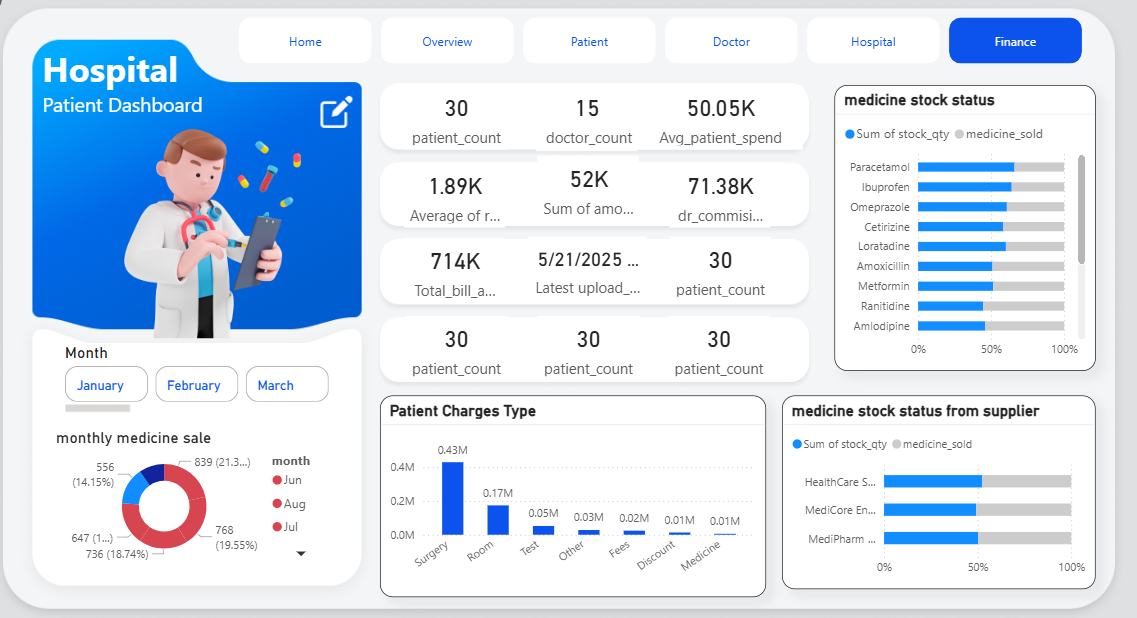

This screenshot's page, from the dashboard's own definition file:
{"tool":"powerbi","page":{"name":"Finance","canvas":[1280,720],"ordinal":5},"visuals":[{"type":"image","box":[371.7,120,51.7,45],"z":0},{"type":"actionButton","box":[0,0,99.2,40.7],"z":1000},{"type":"textbox","box":[75,64.3,348.3,250.1],"z":2000},{"type":"image","box":[138.6,142.9,258.6,250],"z":3000},{"type":"advancedSlicerVisual","fields":{"Values":["calender.Date.Variation.Date Hierarchy.Month"]},"box":[98.6,392.9,297.1,81.4],"z":4000},{"type":"donutChart","title":" monthly medicine sale","fields":{"Category":["calender.month"],"Y":["_Measure.Total_med_sale_qty"]},"box":[90,485.7,305.7,148.6],"z":5000},{"type":"clusteredColumnChart","title":"Patient Charges Type","fields":{"Category":["bills.Charge_Type"],"Y":["Sum(bills.Value)"]},"box":[445,450,418.3,218.3],"z":6000},{"type":"hundredPercentStackedBarChart","title":"medicine stock status","fields":{"Y":["Sum(medical_stock_info.stock_qty)","_Measure.Total_med_sale_qty"],"Category":["medical_stock_info.name"]},"box":[938.3,113.3,283.3,310],"z":7000},{"type":"hundredPercentStackedBarChart","title":"medicine stock status from supplier","fields":{"Y":["Sum(medical_stock_info.stock_qty)","_Measure.Total_med_sale_qty"],"Category":["medical_stock_info.supplier_name"]},"box":[881.7,450,340,210],"z":8000},{"type":"card","fields":{"Values":["Count(appointments.patient_id)"]},"box":[473.3,113.3,110,70],"z":9000},{"type":"card","fields":{"Values":["Count(appointments.doctor_id)"]},"box":[615,111.7,110,73.3],"z":10000},{"type":"card","fields":{"Values":["Avg(Patient_spend_amt.Patient_spend_amt)"]},"box":[725,113.3,178.3,70],"z":11000},{"type":"card","fields":{"Values":["Avg(patient_info.room_daily_charge)"]},"box":[472,198,110,70],"z":12000},{"type":"card","fields":{"Values":["_Measure.Total_bill_amount"]},"box":[472,280,110,70],"z":13000},{"type":"card","fields":{"Values":["Count(appointments.patient_id)"]},"box":[474,364,110,70],"z":14000},{"type":"card","fields":{"Values":["Count(appointments.patient_id)"]},"box":[758,364,110,70],"z":15000},{"type":"card","fields":{"Values":["Sum(patient_tests.amount)"]},"box":[616,190,110,70],"z":16000},{"type":"card","fields":{"Values":["Max(appointments.upload_timestamp)"]},"box":[606,278,128,70],"z":17000},{"type":"card","fields":{"Values":["Count(appointments.patient_id)"]},"box":[616,364,110,70],"z":18000},{"type":"card","fields":{"Values":["_Measure.dr_commision_amt"]},"box":[760,198,110,70],"z":19000},{"type":"card","fields":{"Values":["Count(appointments.patient_id)"]},"box":[760,278,110,70],"z":20000},{"type":"pageNavigator","box":[292,40,918,50],"z":21000}]}

Visuals, with their boxes on the page's 1280x720 design canvas (x1, y1, x2, y2). These are canvas units, not pixel positions in the 1137x618 screenshot, which may show the page scaled, cropped or inside an application window:
image: Rect(372, 120, 423, 165)
actionButton: Rect(0, 0, 99, 41)
textbox: Rect(75, 64, 423, 314)
image: Rect(139, 143, 397, 393)
advancedSlicerVisual - calender.Date.Variation.Date Hierarchy.Month: Rect(99, 393, 396, 474)
" monthly medicine sale" donutChart: Rect(90, 486, 396, 634)
"Patient Charges Type" clusteredColumnChart: Rect(445, 450, 863, 668)
"medicine stock status" hundredPercentStackedBarChart: Rect(938, 113, 1222, 423)
"medicine stock status from supplier" hundredPercentStackedBarChart: Rect(882, 450, 1222, 660)
card - Count(appointments.patient_id): Rect(473, 113, 583, 183)
card - Count(appointments.doctor_id): Rect(615, 112, 725, 185)
card - Avg(Patient_spend_amt.Patient_spend_amt): Rect(725, 113, 903, 183)
card - Avg(patient_info.room_daily_charge): Rect(472, 198, 582, 268)
card - _Measure.Total_bill_amount: Rect(472, 280, 582, 350)
card - Count(appointments.patient_id): Rect(474, 364, 584, 434)
card - Count(appointments.patient_id): Rect(758, 364, 868, 434)
card - Sum(patient_tests.amount): Rect(616, 190, 726, 260)
card - Max(appointments.upload_timestamp): Rect(606, 278, 734, 348)
card - Count(appointments.patient_id): Rect(616, 364, 726, 434)
card - _Measure.dr_commision_amt: Rect(760, 198, 870, 268)
card - Count(appointments.patient_id): Rect(760, 278, 870, 348)
pageNavigator: Rect(292, 40, 1210, 90)
